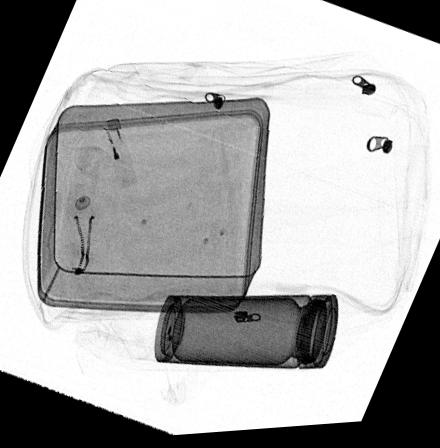Lighter: (101, 120, 138, 191)
